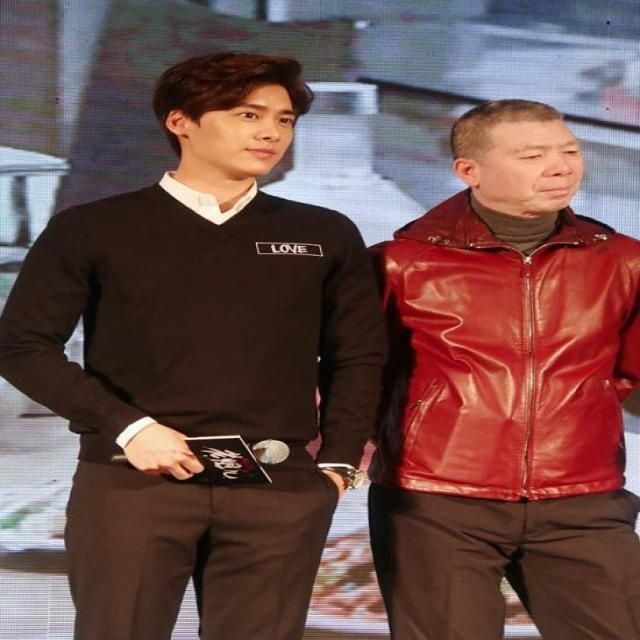obstacle: (0, 54, 380, 640), (374, 93, 640, 640)
